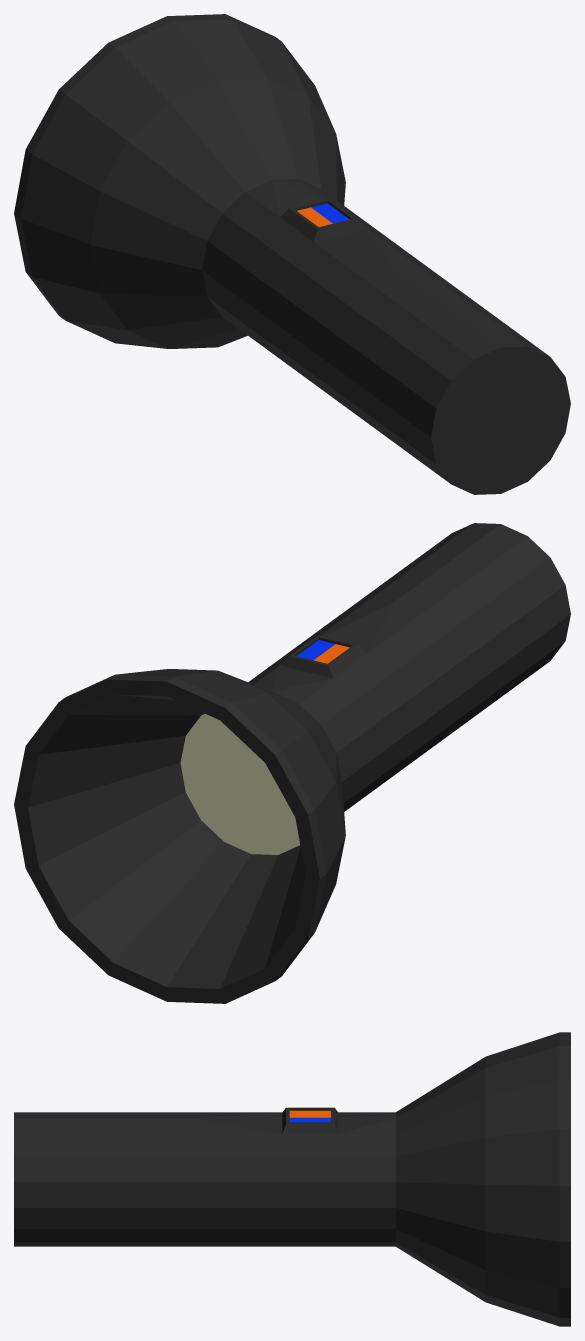
Rendered from flashlight.fbx.
3 renders of one model, top to bottom at view 1: azimuth 30°, elevation 25°; view 2: azimuth 150°, elevation 25°; view 3: azimuth 270°, elevation 25°, orthographic. The views are drawn at different scales.
Visible parts, largest first — view 1: Cylinder; view 2: Cylinder; view 3: Cylinder.
Part boxes in pixels (x1,y1,x2,y2): Cylinder: (14,14,570,494); Cylinder: (14,523,570,1003); Cylinder: (14,1032,570,1326).
Bounding box in the file's own units: 437 × 437 × 827.
